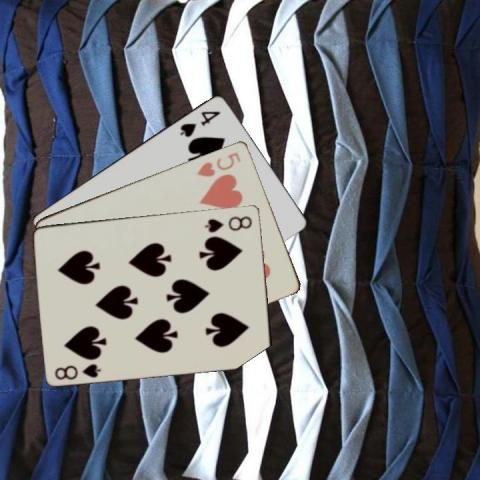4s: (177, 107, 222, 139)
5h: (194, 149, 242, 178)
8s: (52, 360, 103, 381), (202, 213, 253, 233)
